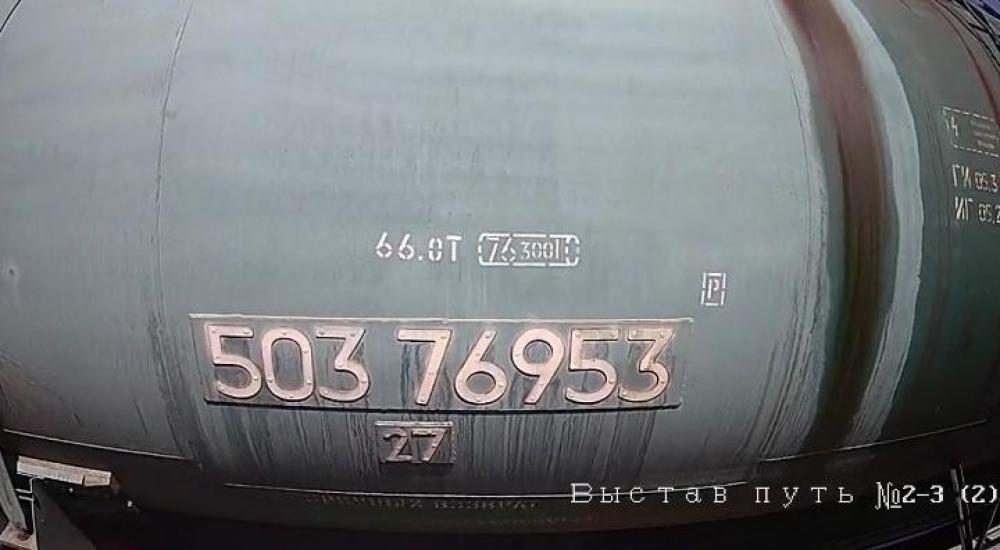Wagon-number: (191, 316, 683, 410)
